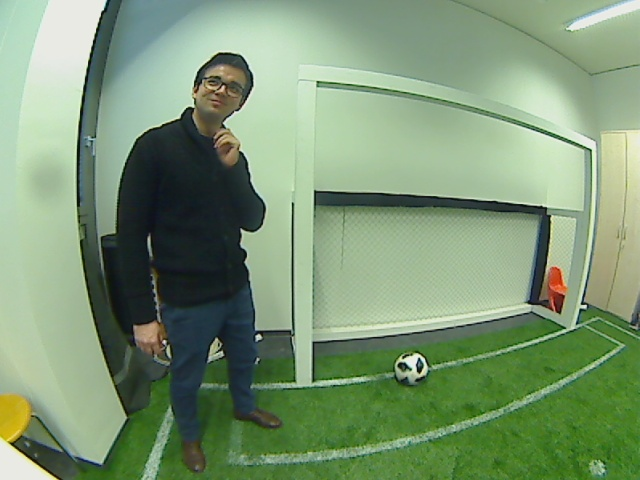ball: (393, 349, 430, 386)
